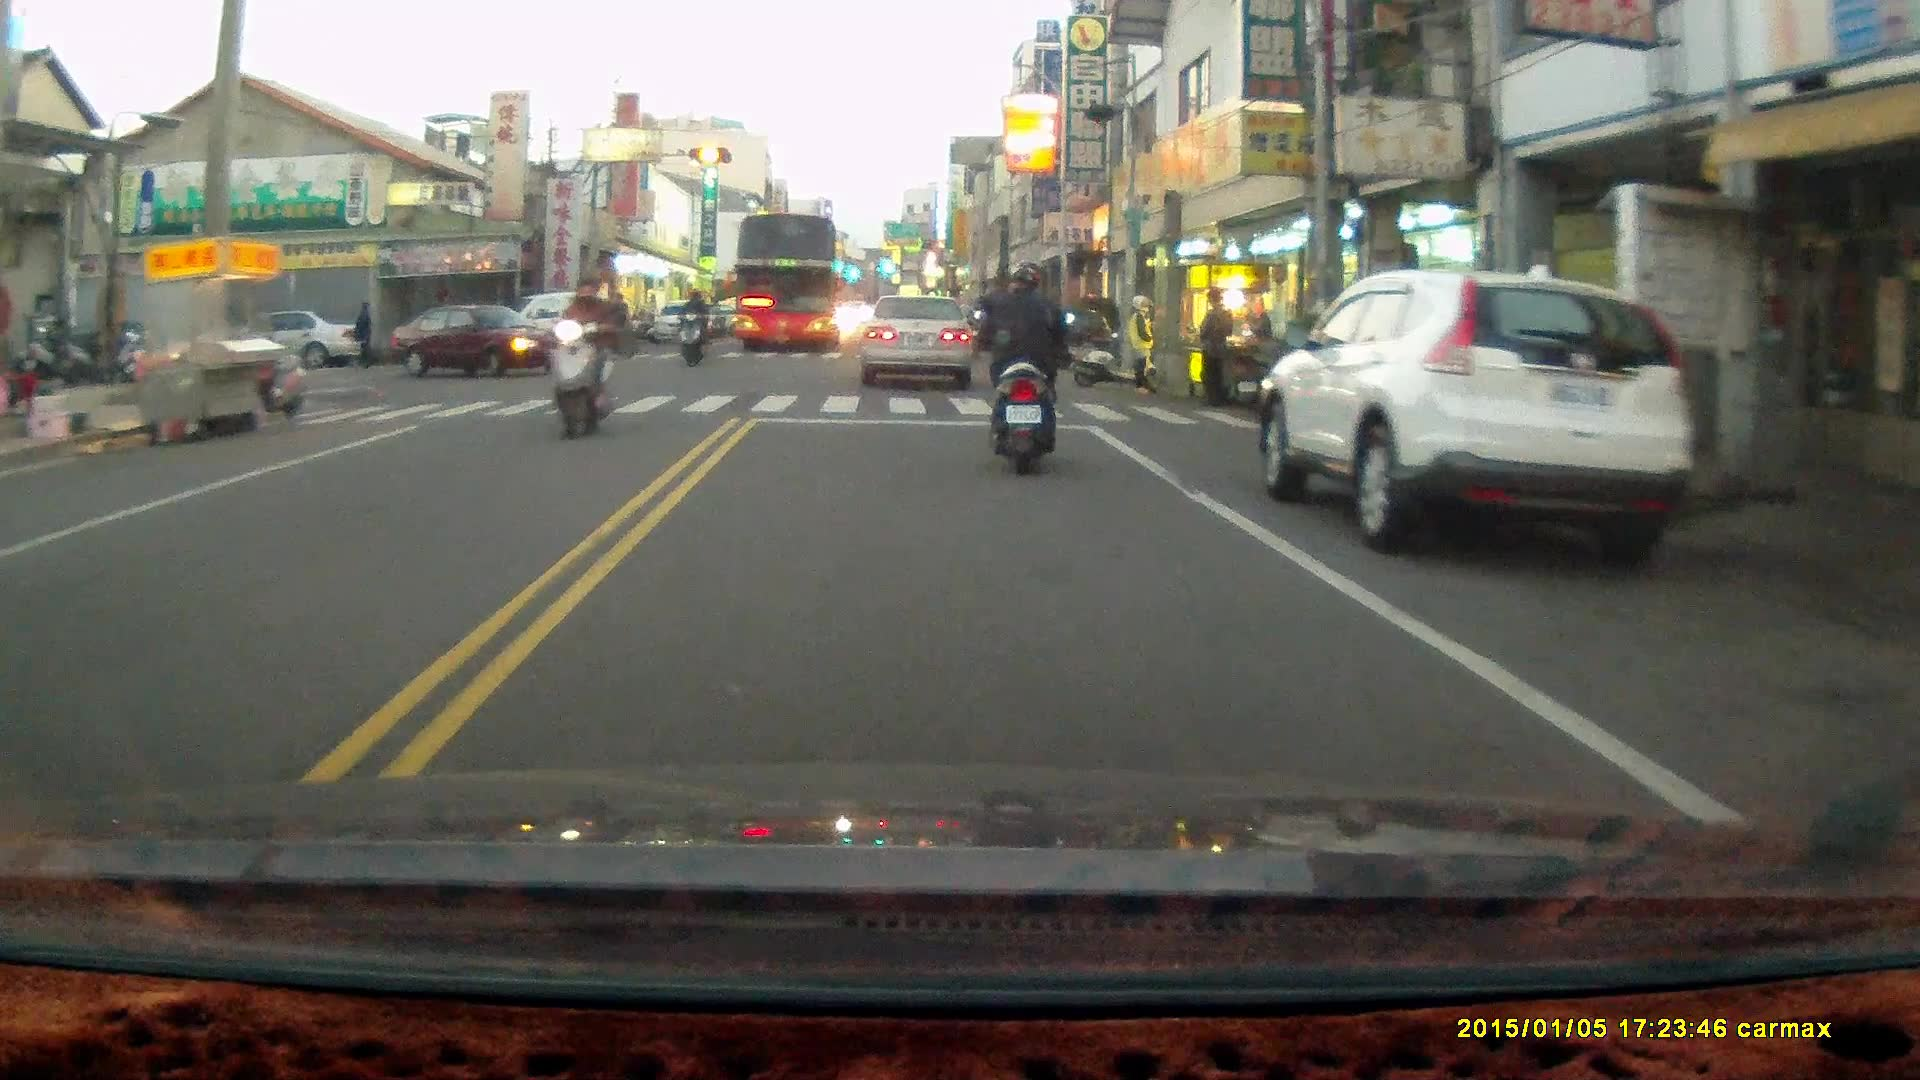pedestrian: (1199, 289, 1234, 414), (1124, 291, 1159, 396), (349, 303, 373, 372)
rider: (971, 261, 1077, 473), (542, 270, 620, 438), (587, 289, 634, 359), (673, 287, 710, 367)
vehicle: (1255, 268, 1696, 558), (724, 211, 847, 357), (397, 298, 571, 374), (860, 294, 975, 389), (236, 311, 366, 368)
